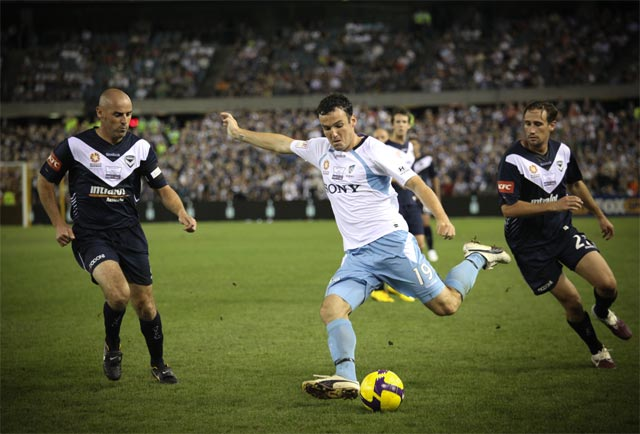soccer player: (221, 87, 506, 403), (34, 81, 199, 395), (496, 99, 633, 371), (373, 111, 425, 301)
soccerball: (359, 365, 406, 416)
